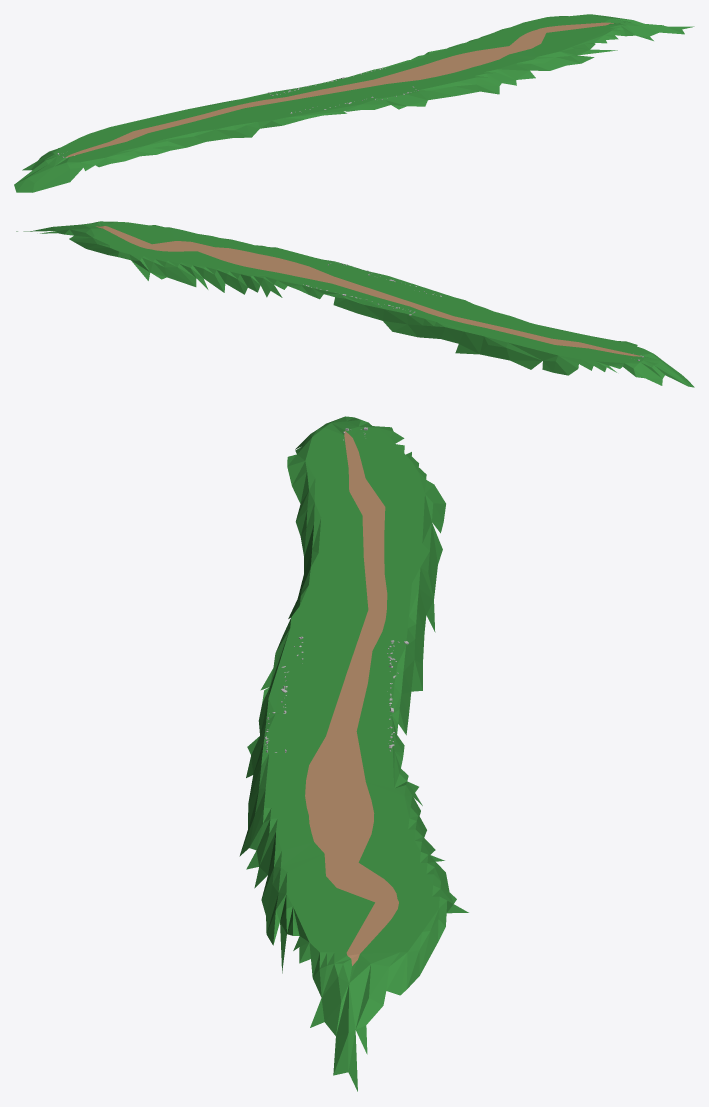
The model's file is landscape.init.fbx.
The picture shows the model from 3 angles, top to bottom: view 1: azimuth 30°, elevation 25°; view 2: azimuth 150°, elevation 25°; view 3: azimuth 270°, elevation 25°; orthographic projection. The views are drawn at different scales.
Parts seen in each view (by area): view 1: inner_grass, outer_grass, dirt; view 2: inner_grass, outer_grass, dirt; view 3: inner_grass, outer_grass, dirt.
Boxes of the visible parts, <box> form: inner_grass: <box>54,15,629,166</box>; outer_grass: <box>14,14,694,192</box>; dirt: <box>65,22,613,157</box>; inner_grass: <box>83,221,659,362</box>; outer_grass: <box>16,221,694,387</box>; dirt: <box>96,226,641,356</box>; inner_grass: <box>264,422,439,983</box>; outer_grass: <box>239,416,468,1091</box>; dirt: <box>305,431,398,965</box>.
Bounding box in the file's own units: 2444 × 93.05 × 361.
